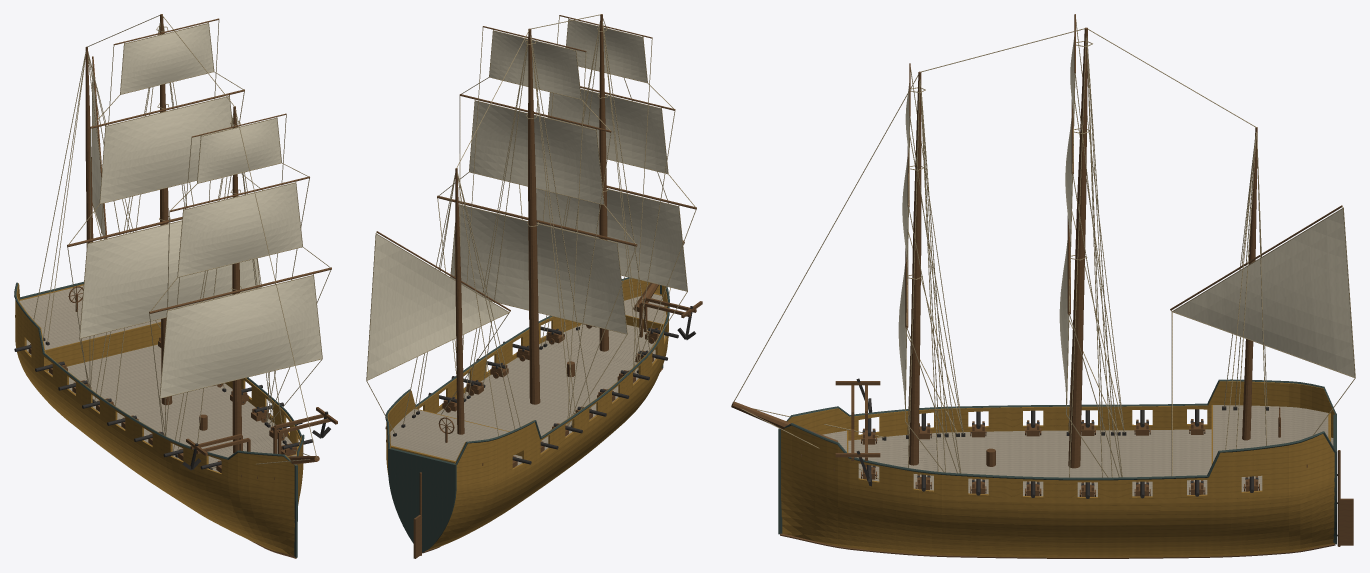
3 views of the same model, side by side, from view 1: azimuth 30°, elevation 25°; view 2: azimuth 150°, elevation 25°; view 3: azimuth 270°, elevation 25° (orthographic). The views are drawn at different scales.
Visible parts, largest first — view 1: lod2_hull_shell_starboard, lod2_fore_square_00, lod2_main_square_00, lod2_main_deck, lod2_main_square_01, lod2_fore_square_01, lod2_main_square_02, lod2_fore_square_02, lod2_castle_deck_0, lod2_castle_bulkhead_0_1, lod2_hull_shell_port, lod2_mizzen (+7 smaller); view 2: lod2_main_square_00, lod2_hull_shell_starboard, lod2_main_deck, lod2_mizzen_lateen_00, lod2_main_square_01, lod2_fore_square_00, lod2_fore_square_01, lod2_stern_closure, lod2_main_square_02, lod2_castle_deck_0, lod2_fore_square_02, lod2_main (+16 smaller); view 3: lod2_hull_shell_port, lod2_mizzen_lateen_00, lod2_main_deck, lod2_hull_shell_starboard, lod2_main, lod2_castle_deck_0, lod2_fore, lod2_gunwale_port, lod2_mizzen, lod2_gunwale_starboard, lod2_keel, lod2_main_square_00.
Part boxes in pixels (x1,y1,x2,y2): lod2_hull_shell_starboard: (15, 283, 294, 555); lod2_fore_square_00: (160, 276, 321, 397); lod2_main_square_00: (80, 221, 259, 337); lod2_main_deck: (26, 339, 292, 472); lod2_main_square_01: (100, 96, 232, 203); lod2_fore_square_01: (178, 183, 302, 276); lod2_main_square_02: (120, 23, 213, 93); lod2_fore_square_02: (197, 118, 281, 182); lod2_castle_deck_0: (19, 285, 160, 349); lod2_castle_bulkhead_0_1: (45, 322, 160, 371); lod2_hull_shell_port: (225, 378, 303, 505); lod2_mizzen: (85, 47, 93, 247); lod2_main_square_00: (451, 205, 626, 333); lod2_hull_shell_starboard: (426, 285, 668, 550); lod2_main_deck: (437, 324, 665, 466); lod2_mizzen_lateen_00: (367, 234, 508, 379); lod2_main_square_01: (469, 101, 603, 204); lod2_fore_square_00: (536, 188, 687, 290); lod2_fore_square_01: (548, 89, 667, 173); lod2_stern_closure: (388, 448, 456, 552); lod2_main_square_02: (489, 31, 580, 98); lod2_castle_deck_0: (390, 409, 508, 460); lod2_fore_square_02: (566, 19, 647, 82); lod2_main: (528, 28, 540, 404); lod2_hull_shell_port: (781, 425, 1334, 557); lod2_mizzen_lateen_00: (1173, 209, 1354, 377); lod2_main_deck: (848, 429, 1333, 496); lod2_hull_shell_starboard: (787, 381, 1334, 440); lod2_main: (1068, 27, 1087, 468); lod2_castle_deck_0: (1213, 405, 1328, 461); lod2_fore: (908, 71, 921, 465); lod2_gunwale_port: (780, 423, 1336, 480); lod2_mizzen: (1242, 127, 1257, 440); lod2_gunwale_starboard: (786, 379, 1336, 421); lod2_keel: (780, 533, 1335, 558); lod2_main_square_00: (1059, 240, 1068, 398).
Bounding box in the file's own units: 13.03 × 28.52 × 30.4.
7 materials, 7 textured.
